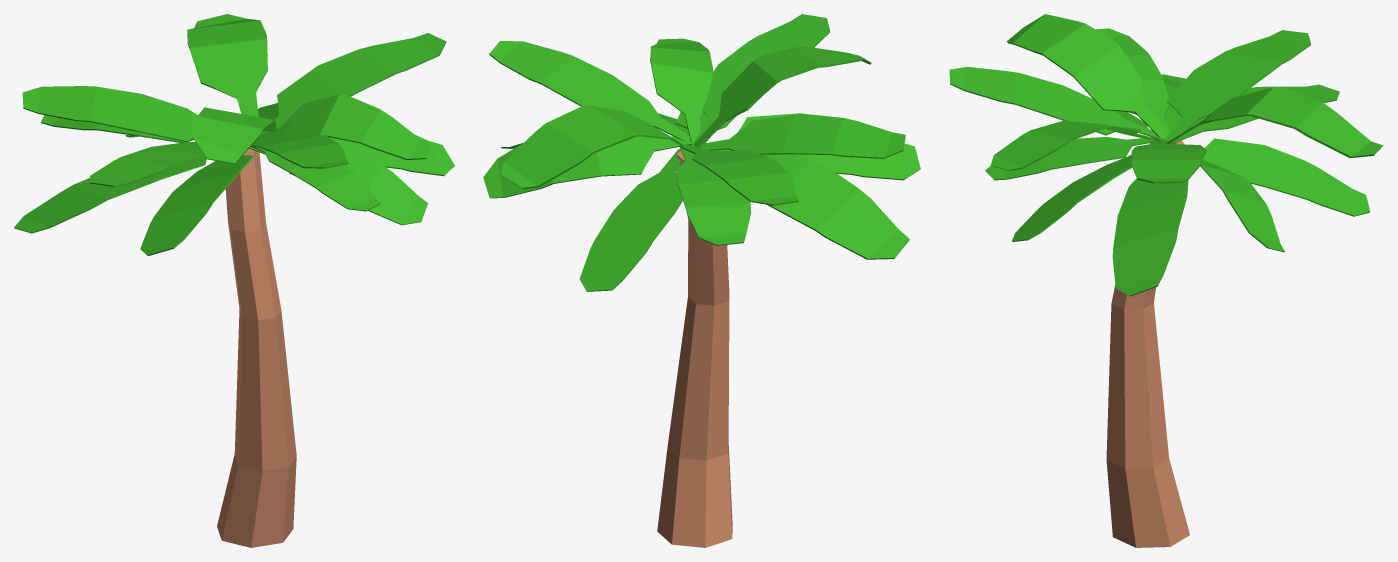
The model's file is PalmTree4.fbx.
The picture shows the model from 3 angles, left to right: view 1: azimuth 30°, elevation 25°; view 2: azimuth 150°, elevation 25°; view 3: azimuth 270°, elevation 25°; orthographic projection.
Visible parts, largest first — view 1: Palm tree4, leave.046, leave.058, leave.055, leave.057, leave.052, leave.047, leave.051, leave.054, leave.059, leave.045, leave.048 (+2 smaller); view 2: Palm tree4, leave.047, leave.058, leave.049, leave.059, leave.055, leave.056, leave.054, leave.057, leave.053, leave.048, leave.046 (+1 smaller); view 3: Palm tree4, leave.054, leave.050, leave.046, leave.049, leave.058, leave.048, leave.057, leave.045, leave.053, leave.055, leave.051 (+3 smaller).
Boxes of the visible parts, x1,y1,x2,y2 form: Palm tree4: (217,148,296,547); leave.046: (22,86,197,142); leave.058: (187,14,267,116); leave.055: (261,33,446,134); leave.057: (258,94,431,159); leave.052: (140,155,253,255); leave.047: (14,158,206,233); leave.051: (249,141,428,225); leave.054: (194,107,276,164); leave.059: (90,142,205,186); leave.045: (251,146,380,211); leave.048: (251,135,348,168); Palm tree4: (657,151,732,547); leave.047: (762,154,909,259); leave.058: (500,105,684,189); leave.049: (579,149,682,291); leave.059: (692,113,905,158); leave.055: (489,41,691,144); leave.056: (676,144,751,245); leave.054: (693,47,871,147); leave.057: (650,38,713,144); leave.053: (483,136,690,198); leave.048: (692,14,829,145); leave.046: (679,145,798,205); Palm tree4: (1106,140,1189,547); leave.054: (1007,14,1168,138); leave.050: (1112,178,1188,296); leave.046: (1164,30,1310,143); leave.049: (1202,138,1370,216); leave.058: (1167,86,1383,157); leave.048: (949,67,1163,140); leave.057: (990,120,1156,170); leave.045: (985,137,1162,180); leave.053: (1155,138,1284,252); leave.055: (1131,140,1206,183); leave.051: (1012,154,1132,241).
Bounding box in the file's own units: 671 × 717 × 607.
